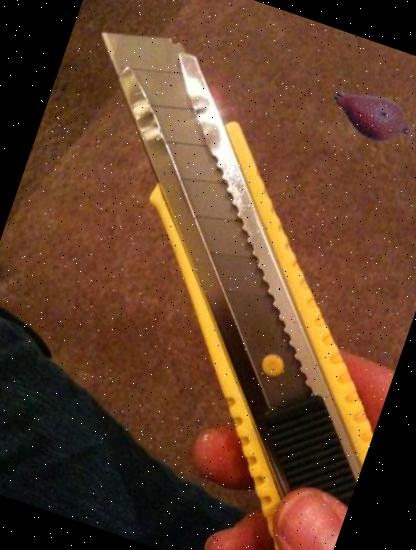Salak: (317, 60, 416, 172)
